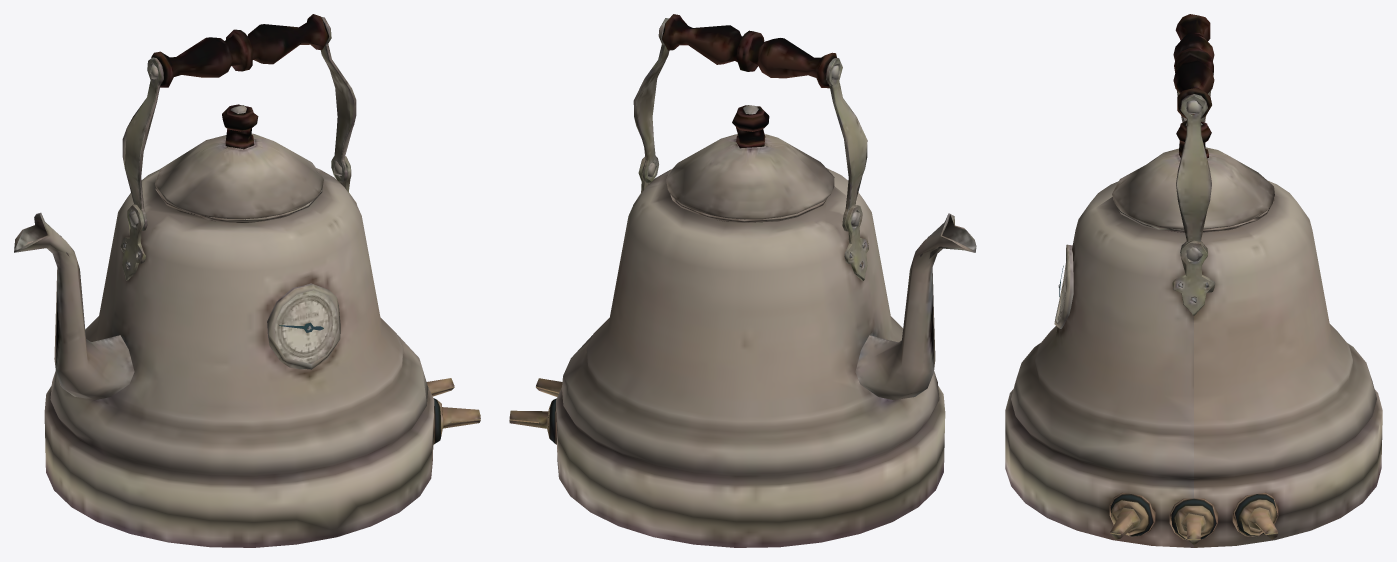
File: kettle-vintage.glb
3 views of the same model, side by side, from view 1: azimuth 30°, elevation 25°; view 2: azimuth 150°, elevation 25°; view 3: azimuth 270°, elevation 25° (orthographic). The views are drawn at different scales.
Visible parts, largest first — view 1: vintage_electric_kettle; view 2: vintage_electric_kettle; view 3: vintage_electric_kettle.
Part boxes in pixels (x1,y1,x2,y2): vintage_electric_kettle: (14, 14, 480, 547); vintage_electric_kettle: (509, 14, 976, 547); vintage_electric_kettle: (1005, 14, 1382, 547).
Bounding box in the file's own units: 0.3208 × 0.3035 × 0.2478.
1 material, 1 textured.
